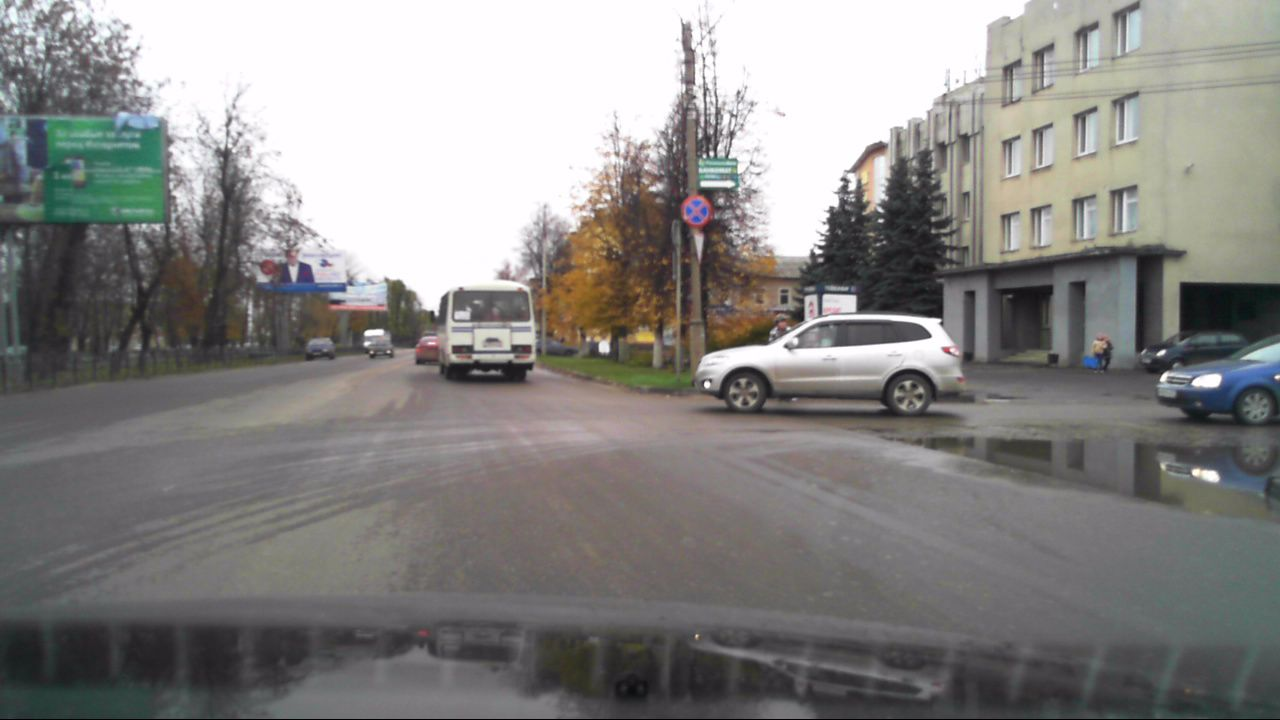No Parking: (680, 195, 712, 226)
